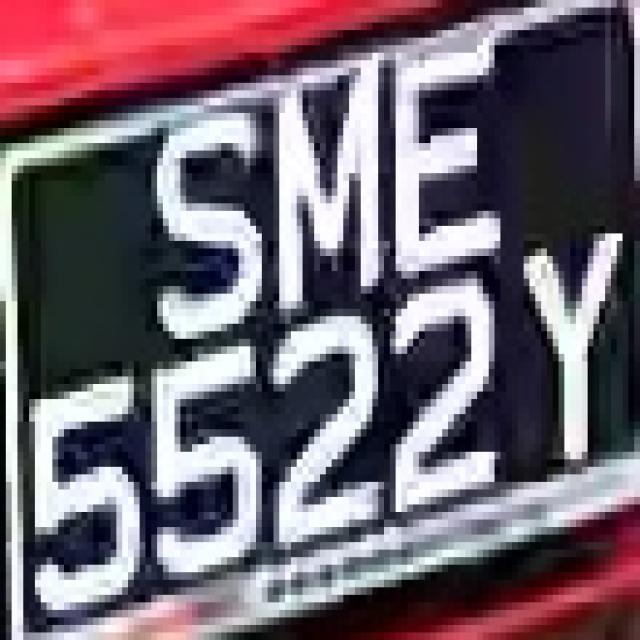2: (361, 286, 506, 550), (268, 301, 396, 587)
5: (128, 346, 279, 610), (35, 369, 157, 617)
E: (361, 22, 506, 294)
M: (262, 68, 396, 308)
S: (134, 120, 256, 324)
Y: (483, 226, 628, 452)
